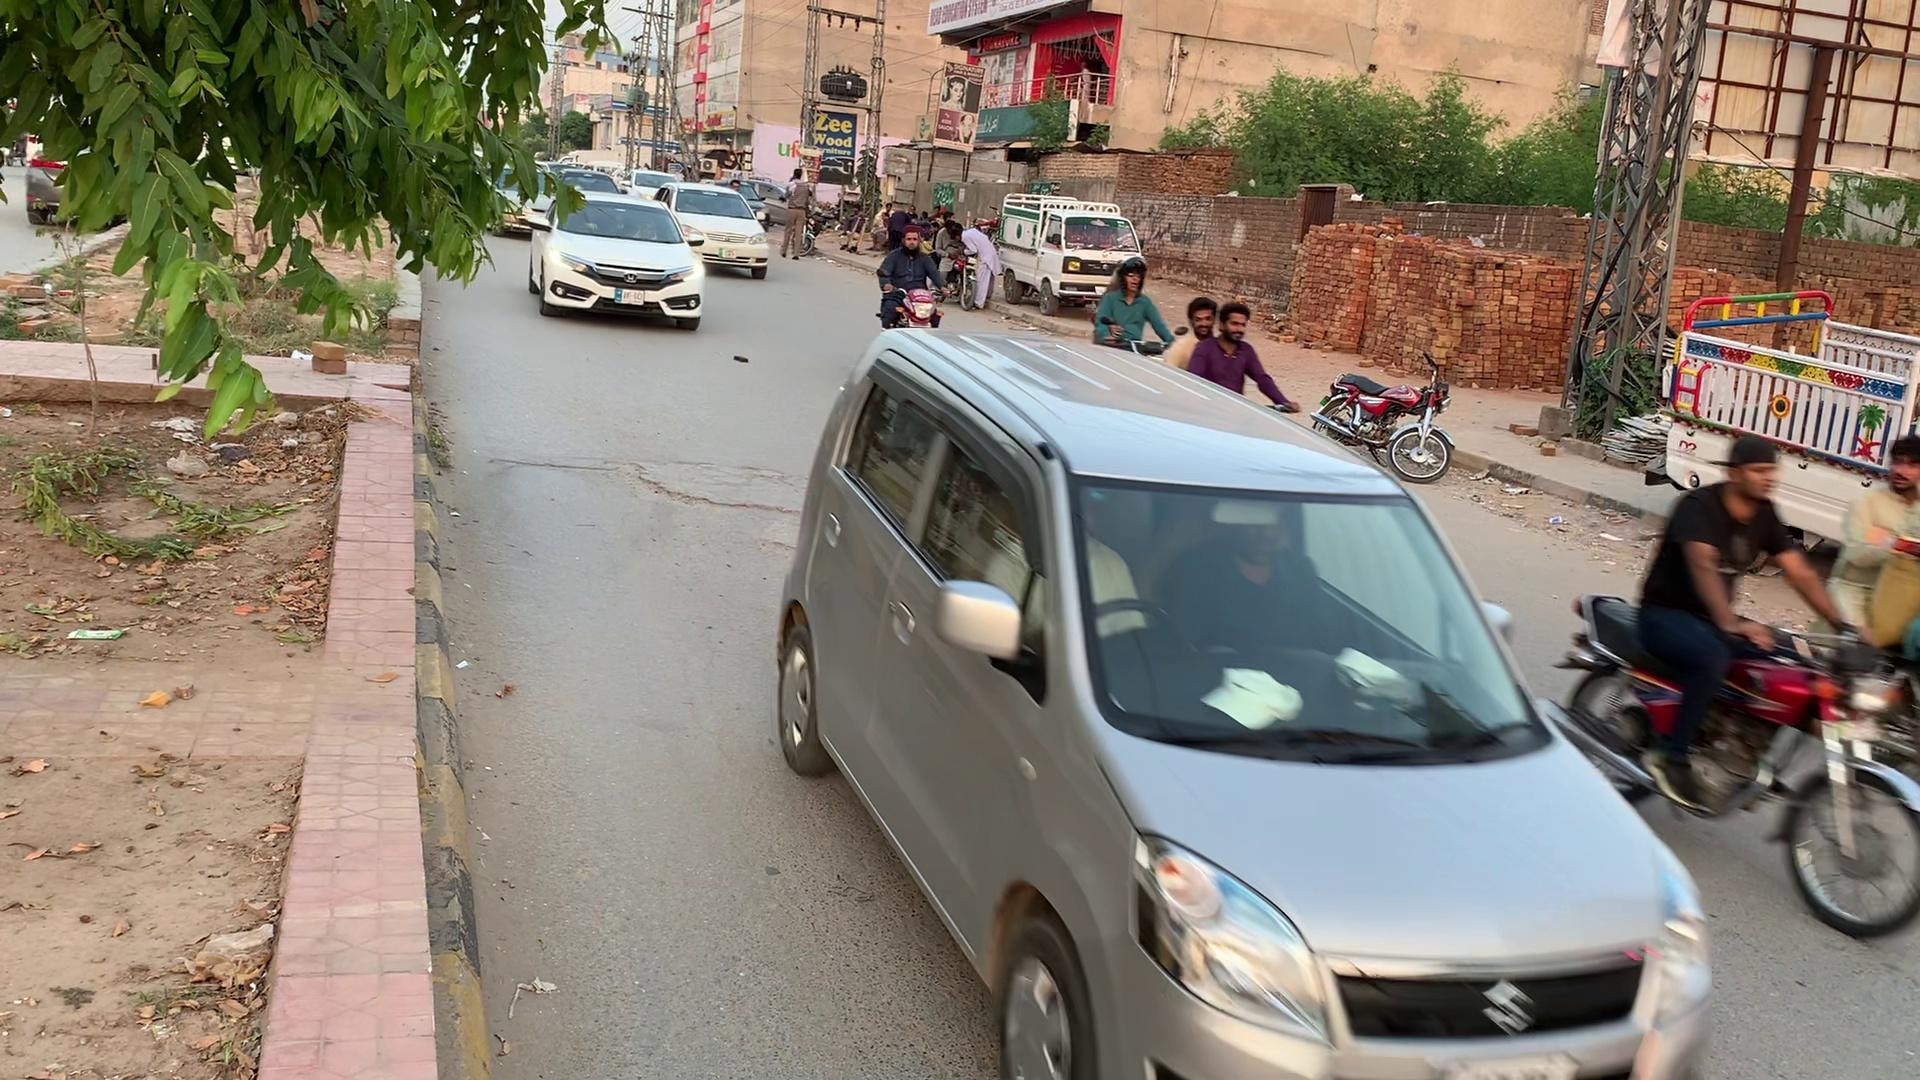windshield: (1051, 463, 1571, 746)
